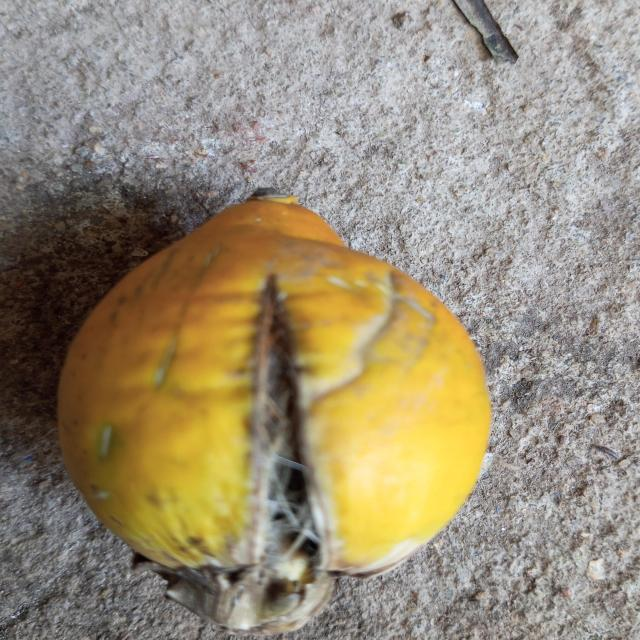damaged: (57, 193, 492, 637)
